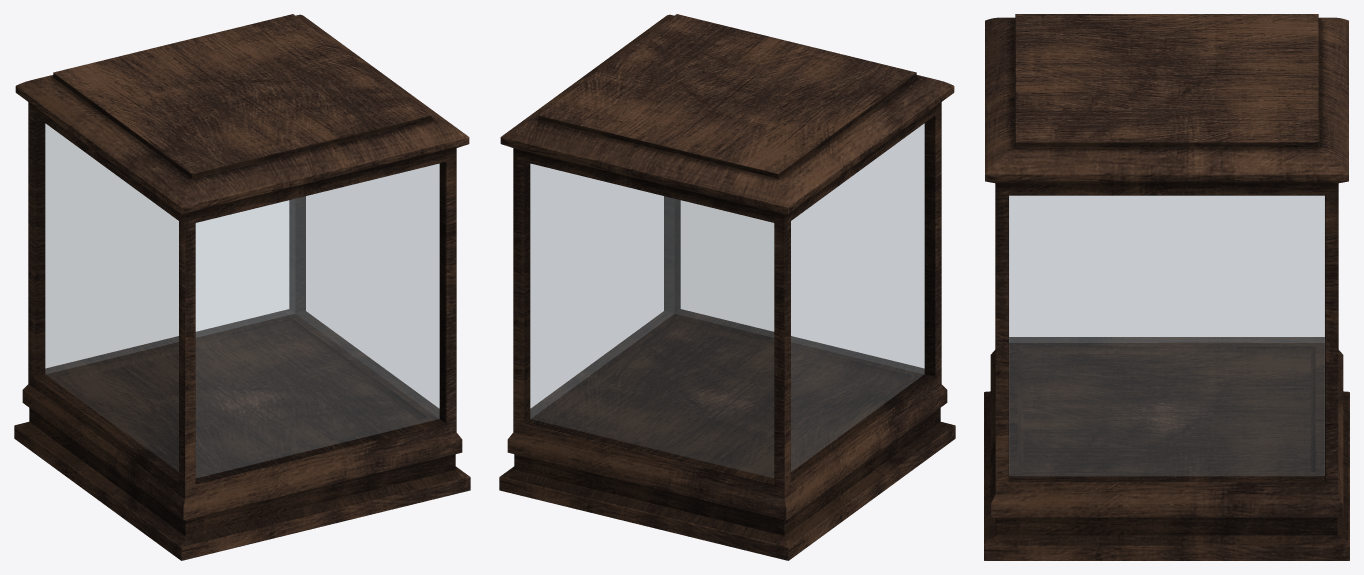
Rendered from glass_showcase.glb.
The picture shows the model from 3 angles, left to right: view 1: azimuth 30°, elevation 25°; view 2: azimuth 150°, elevation 25°; view 3: azimuth 270°, elevation 25°; orthographic projection. The views are drawn at different scales.
Visible parts, largest first — view 1: Vitrine_0, Glas_1; view 2: Vitrine_0, Glas_1; view 3: Vitrine_0, Glas_1.
Boxes of the visible parts, bbox=[...] form: Vitrine_0: bbox=[14, 14, 470, 560]; Glas_1: bbox=[45, 124, 439, 477]; Vitrine_0: bbox=[499, 14, 955, 560]; Glas_1: bbox=[530, 124, 924, 477]; Vitrine_0: bbox=[984, 14, 1349, 560]; Glas_1: bbox=[1009, 195, 1324, 475].
Bounding box in the file's own units: 2.13 × 2.61 × 2.13.
2 materials, 1 textured.
